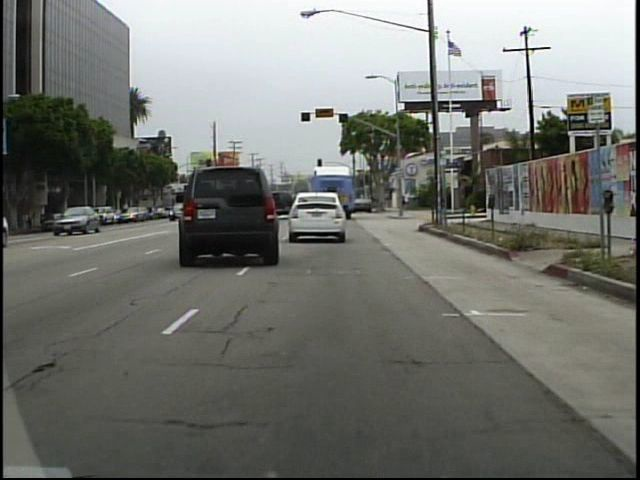person: (404, 188, 413, 213), (397, 189, 405, 214)
